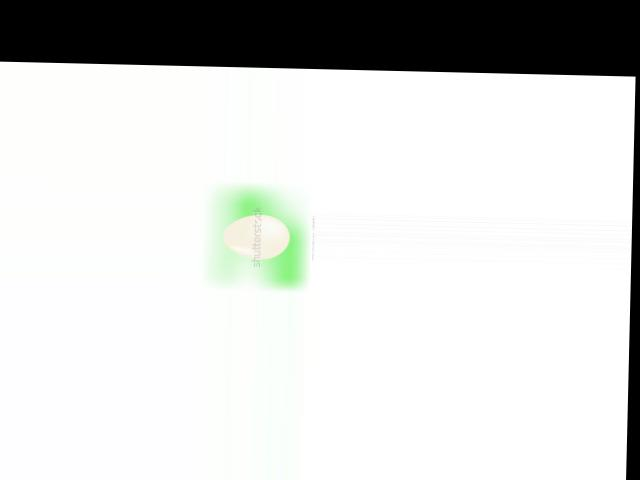egg: (222, 213, 289, 259)
